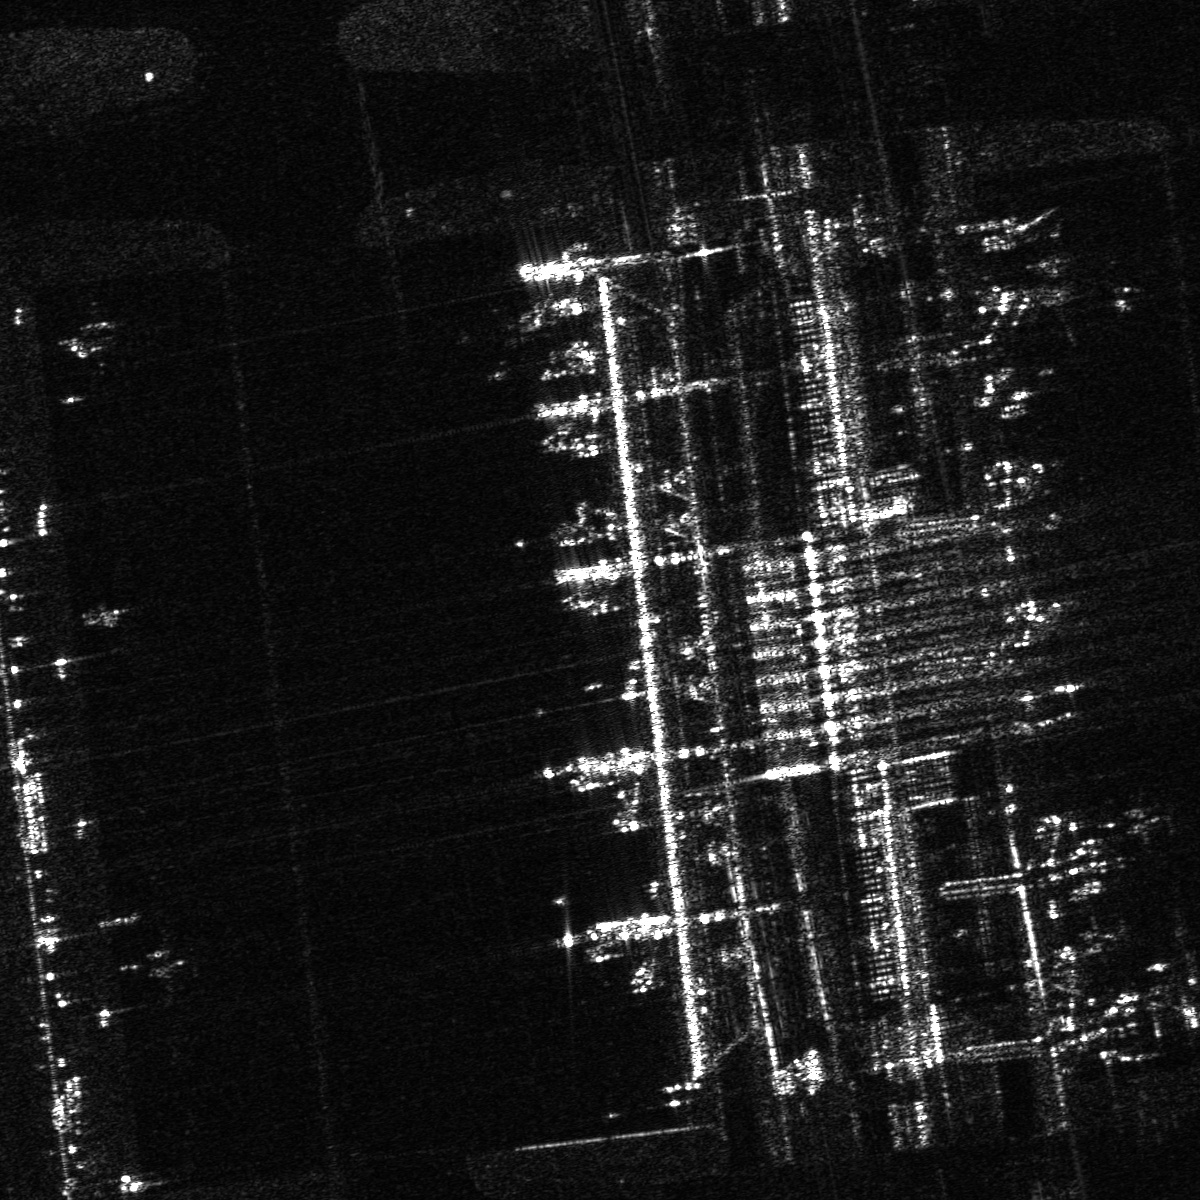Boeing737: (1141, 976, 1199, 1040)
